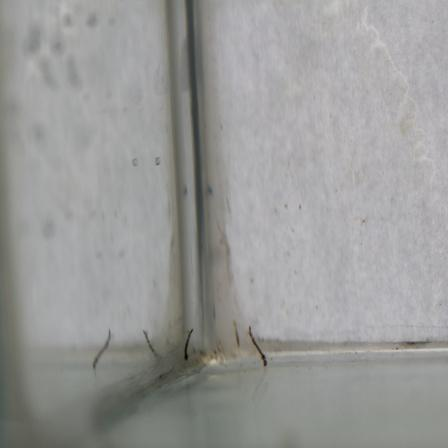Jentik-Nyamuk: (243, 326, 273, 369), (177, 323, 199, 364)
